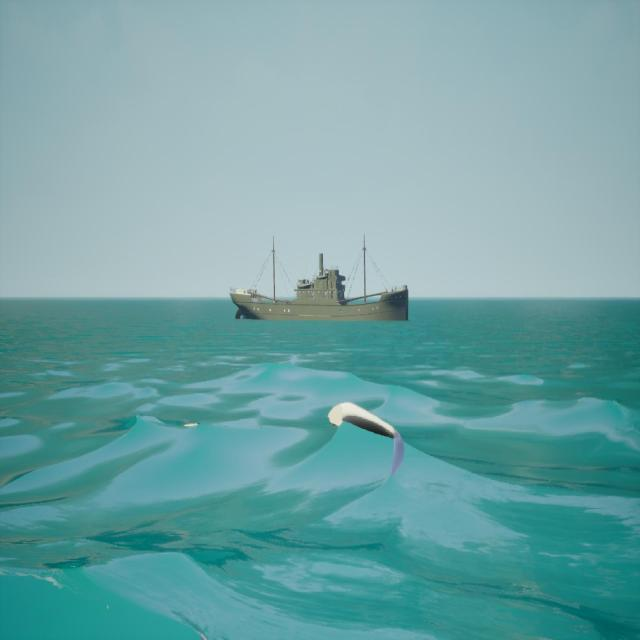fishing ship: (229, 232, 412, 324)
